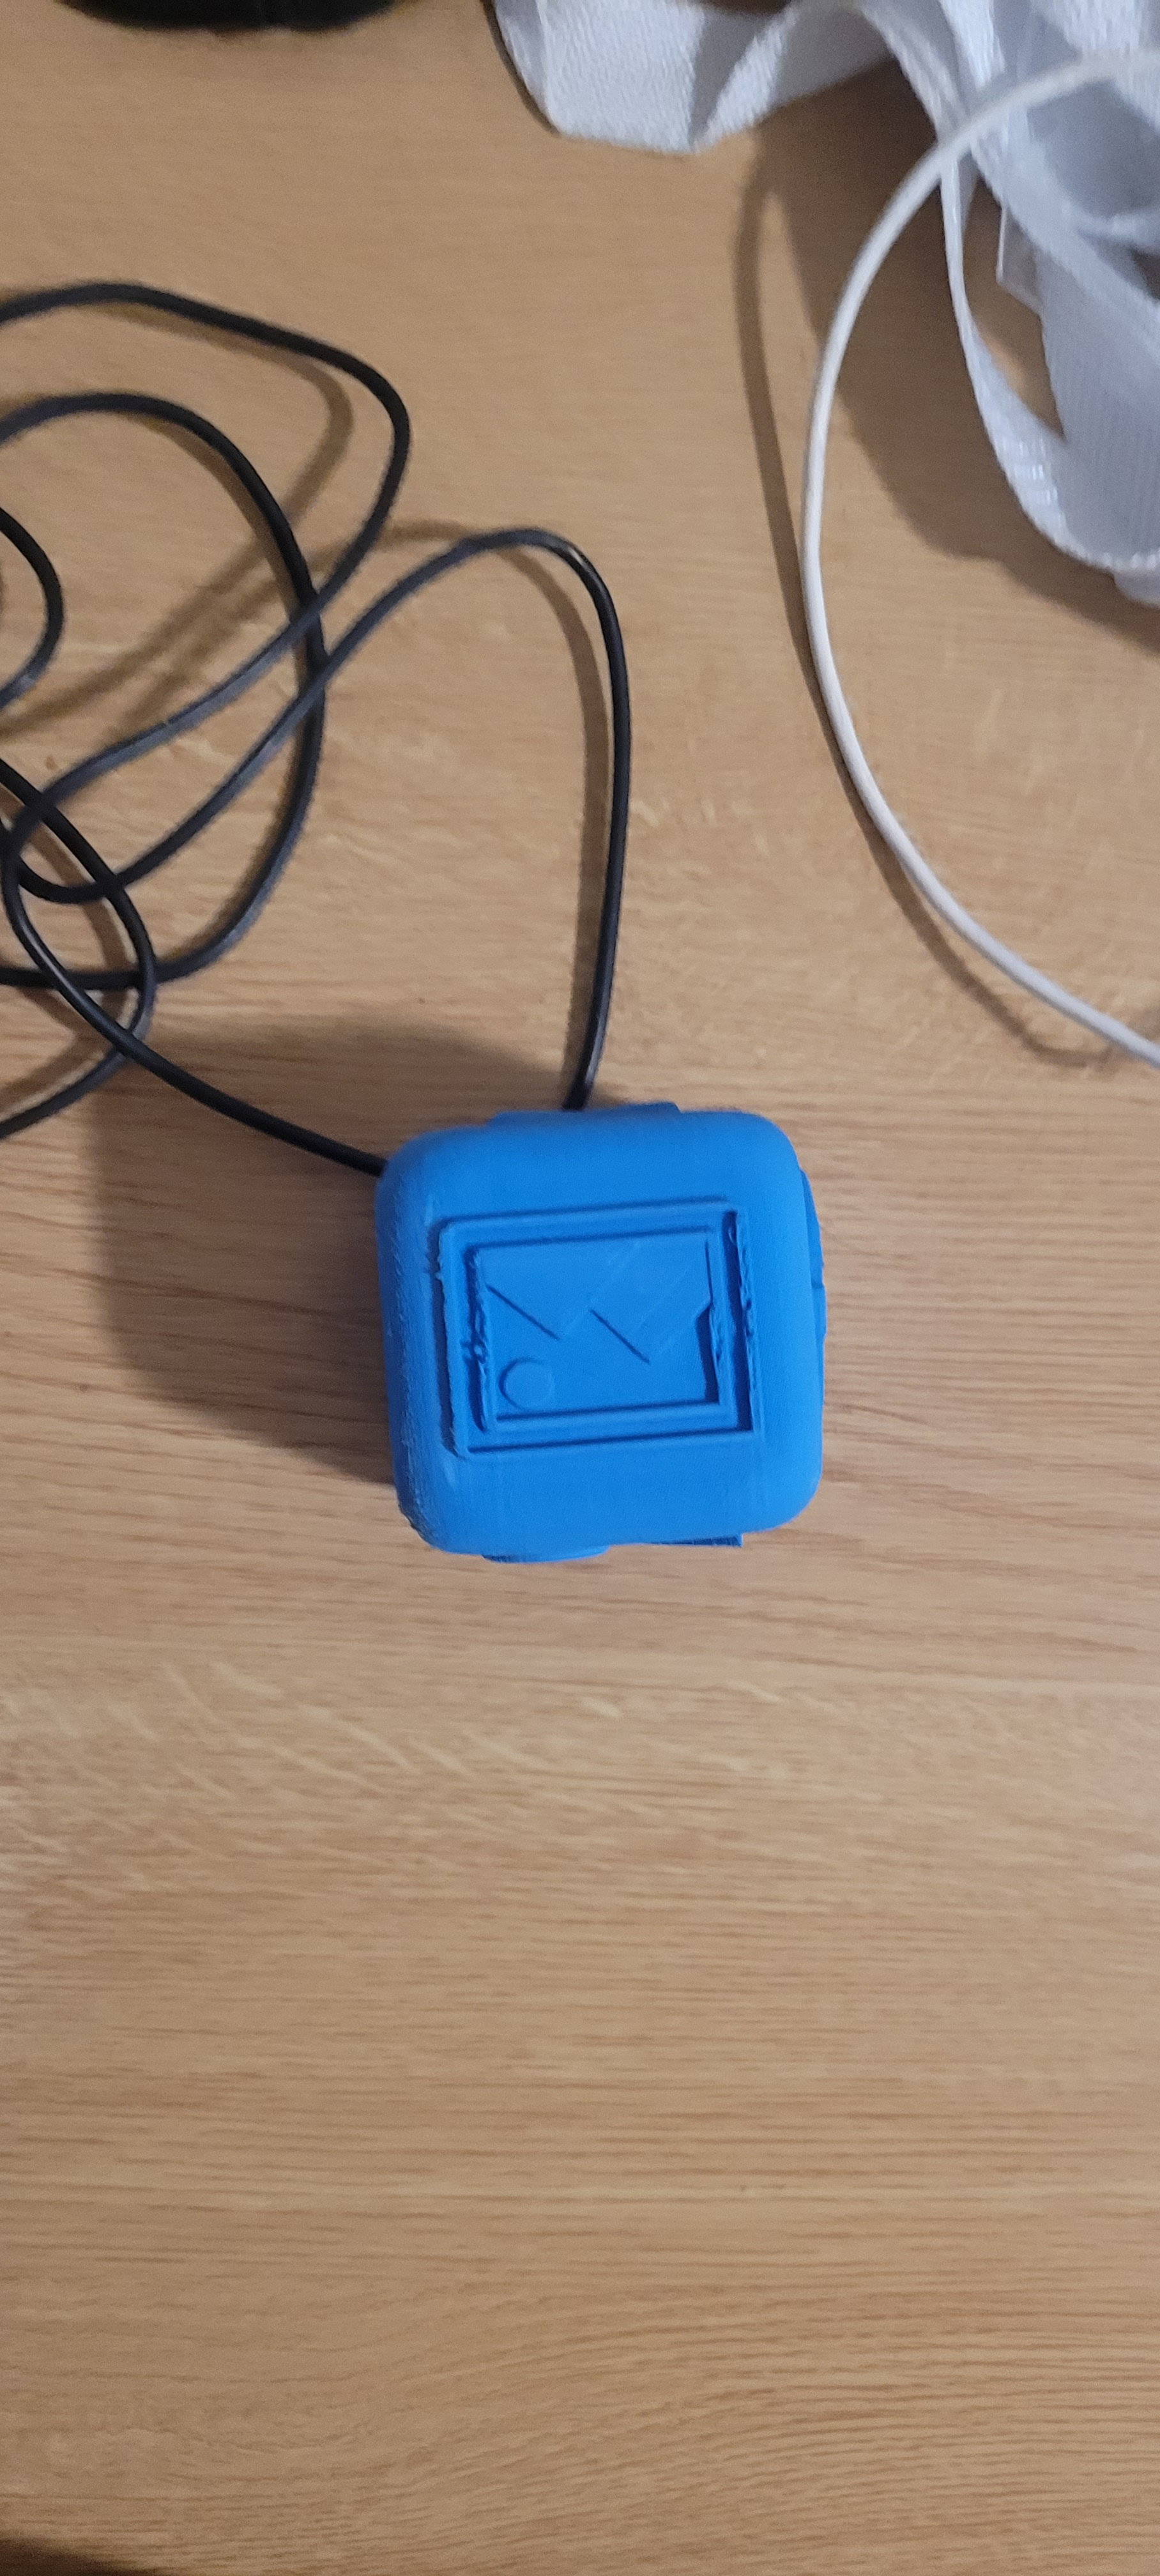Story: (389, 1158, 777, 1506)
